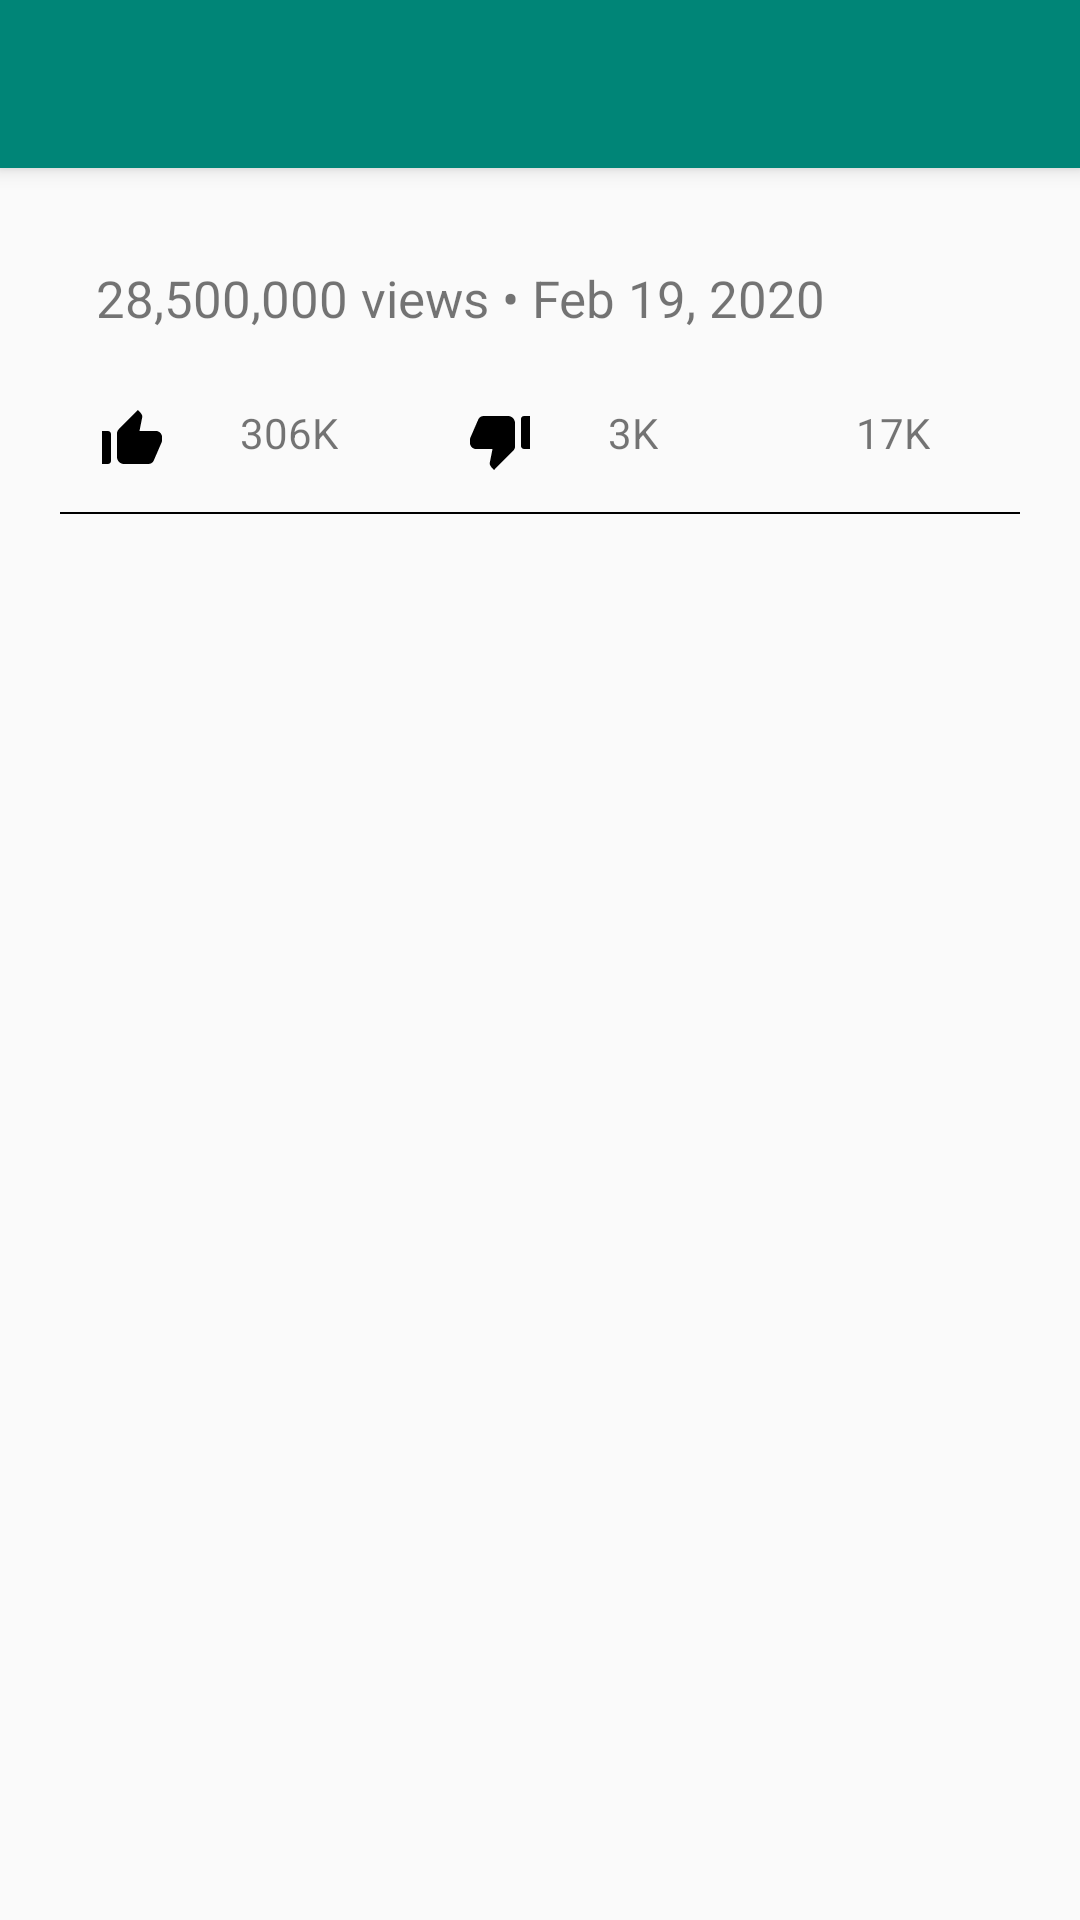

Where icons sit on this 1080×1920 app screen, as box=[x1, y1, x2, y2]:
thumbs down: box=[470, 416, 530, 470]
thumbs up: box=[102, 410, 162, 464]
